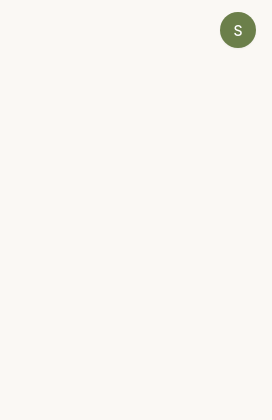
Test: ProfileMenu › opens a menu with who is signed in, their profile and log out
Click the button named "Account menu". click: (238, 30)
box: [220,12,256,48]
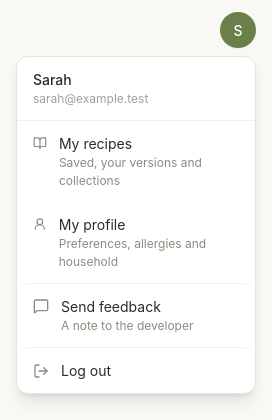
expect the menu named "Account" is shown: met
expect the text "Sarah" is shown: met, box [33,71,72,88]
expect the text "sarah@example.test" is shown: met, box [33,91,148,106]
